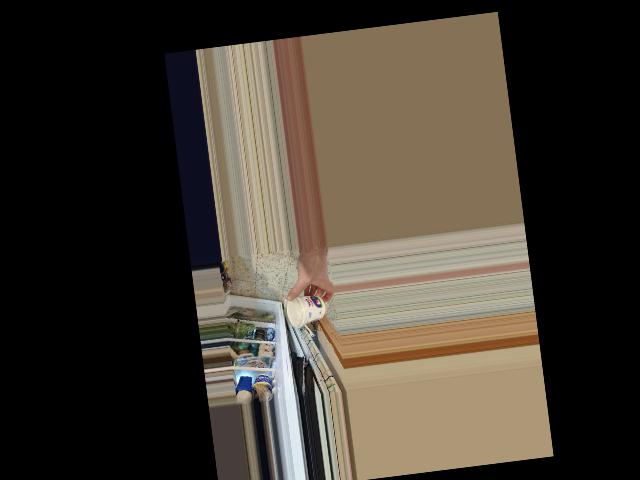cotage: (283, 292, 325, 328)
